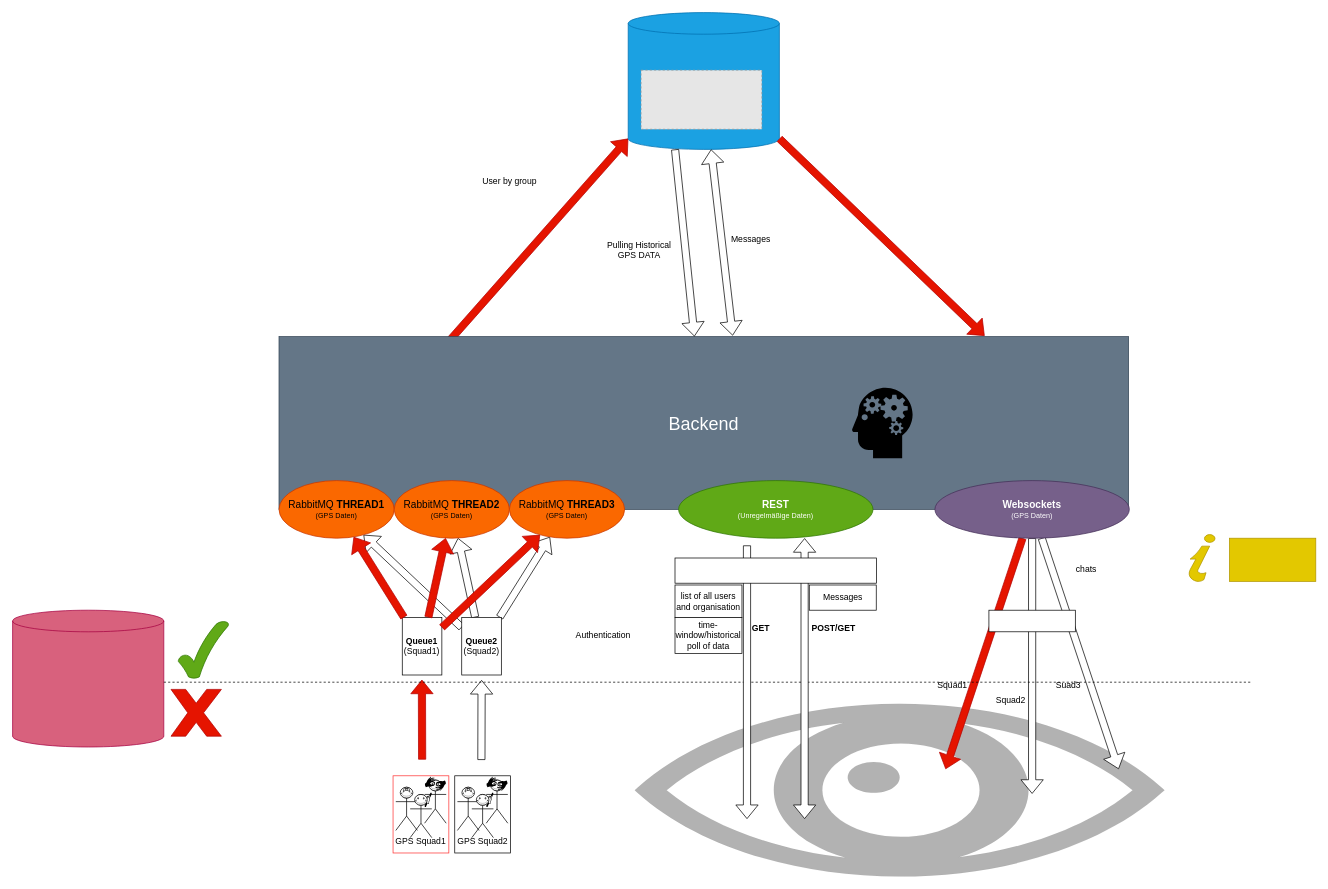
The diagram is 1328 pixels wide and 889 high, and some of its shapes have lost their labels. Grey dashed boxes stand in for pictures. Each missing label, with the box of its shape:
Authentication Server: (12, 609, 164, 747)
Authentication und Authorization, um erlaubte Gruppe zu sehen: (1229, 537, 1316, 581)
Tokens || Session Cookie: (674, 557, 877, 583)
Url Squads: (988, 609, 1075, 632)
Watcher: (634, 703, 1164, 876)
